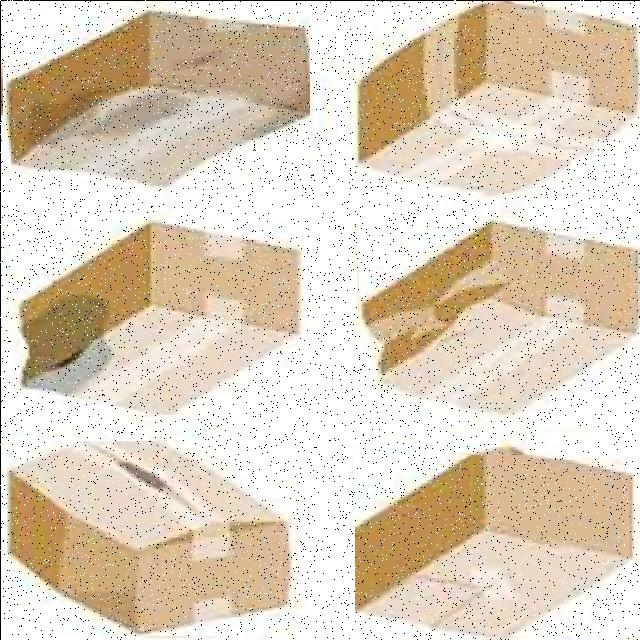defect: (9, 217, 303, 414), (6, 440, 294, 635), (358, 218, 640, 417), (2, 9, 309, 188)
normal: (354, 3, 640, 192), (354, 454, 640, 635)
